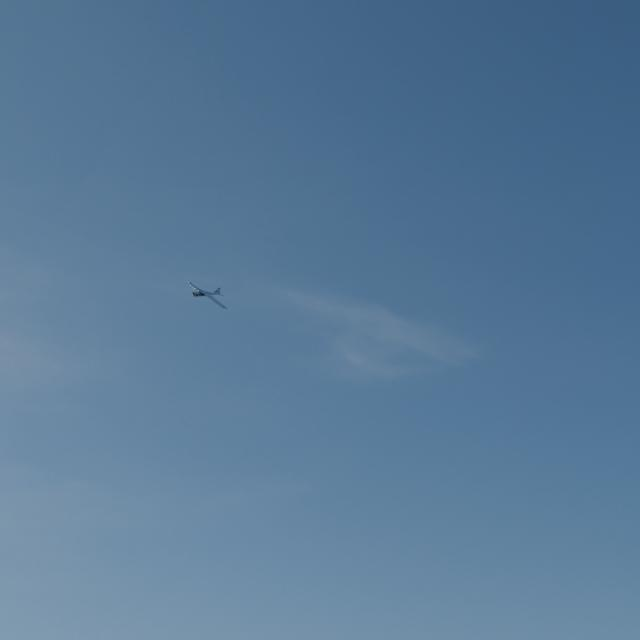Airaplan: (188, 282, 227, 309)
